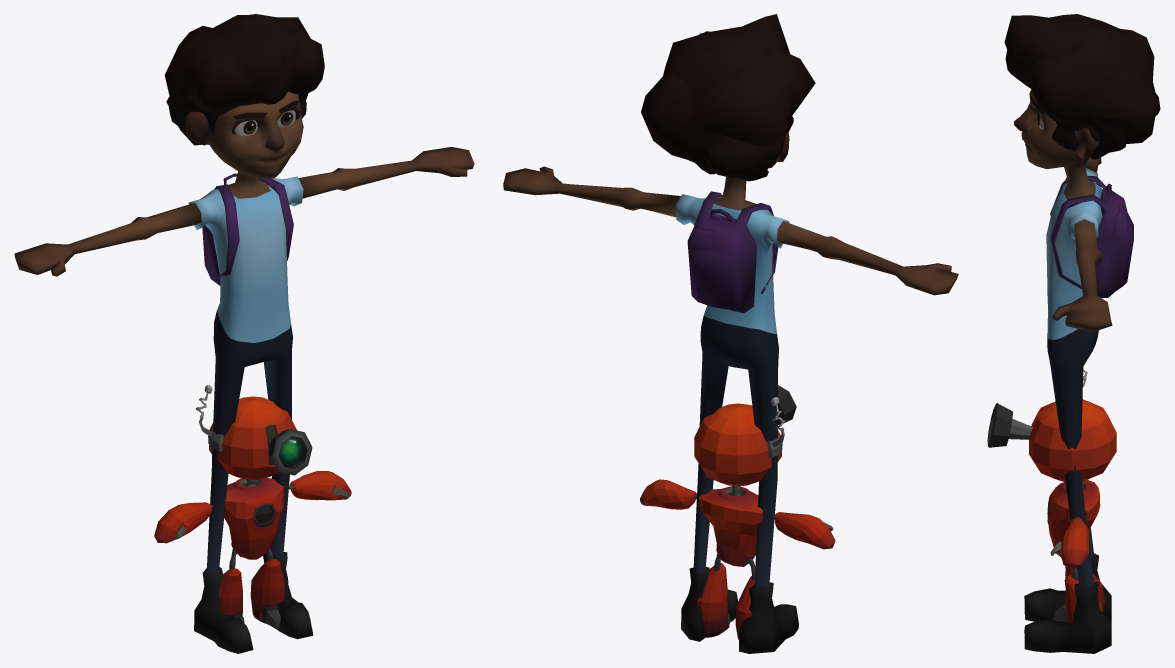
The model's file is ChildandRobotSize.fbx.
The picture shows the model from 3 angles, left to right: view 1: azimuth 30°, elevation 25°; view 2: azimuth 150°, elevation 25°; view 3: azimuth 270°, elevation 25°; orthographic projection. The views are drawn at different scales.
Visible parts, largest first — view 1: Child, Robot; view 2: Child, Robot; view 3: Child, Robot.
Boxes of the visible parts, x1,y1,x2,y2 form: Child: (14,14,474,653); Robot: (154,385,351,630); Child: (503,14,958,653); Robot: (640,385,835,639); Child: (1004,14,1160,653); Robot: (987,369,1116,625).
Size of the model in its own units: 463 by 595 by 152.
